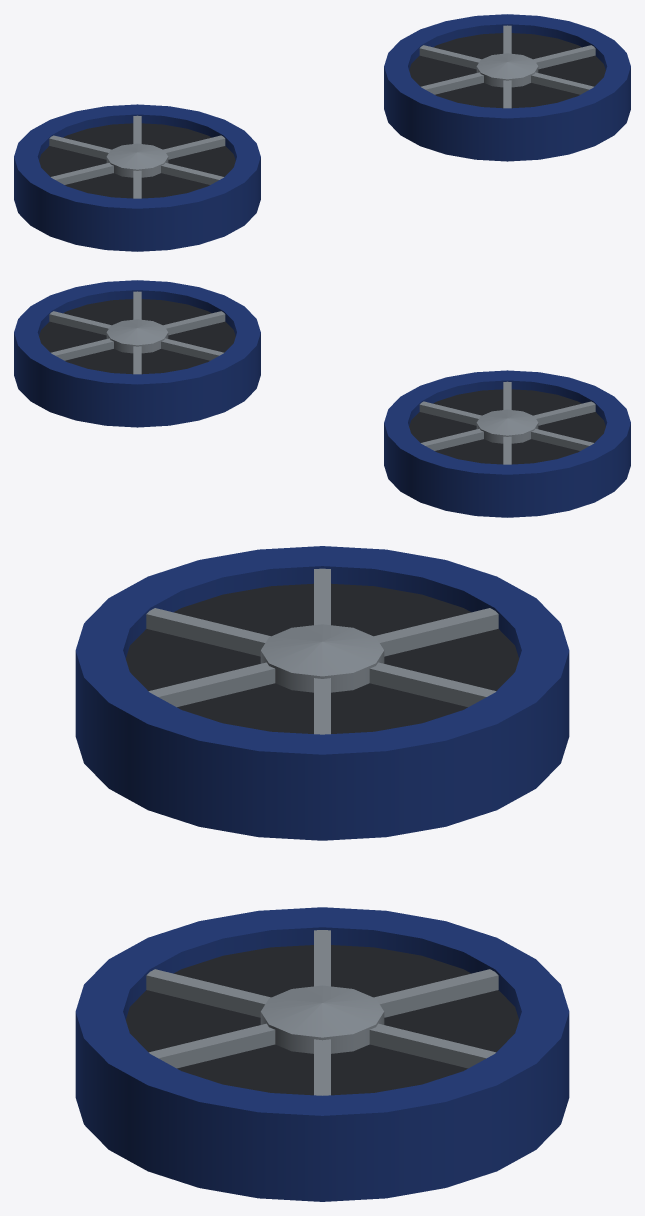
Rendered from l20_fan.obj.
The picture shows the model from 3 angles, top to bottom: view 1: azimuth 30°, elevation 25°; view 2: azimuth 150°, elevation 25°; view 3: azimuth 270°, elevation 25°; orthographic projection. The views are drawn at different scales.
Parts seen in each view (by area): view 1: l20_fan; view 2: l20_fan; view 3: l20_fan.
Part boxes in pixels (x1,y1,x2,y2): l20_fan: [14, 14, 630, 251]; l20_fan: [14, 280, 630, 517]; l20_fan: [75, 546, 569, 1201].
Bounding box in the file's own units: 1.42 × 0.11 × 0.52.
